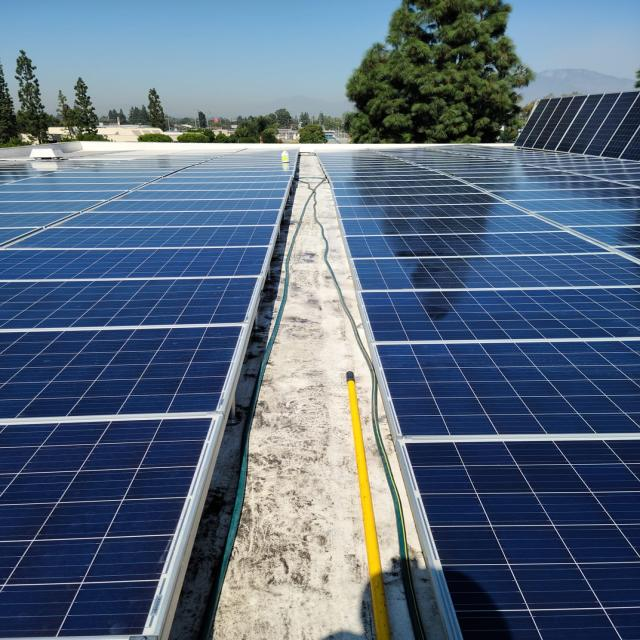clean-solar-panel: (319, 145, 638, 640), (2, 151, 296, 640)
